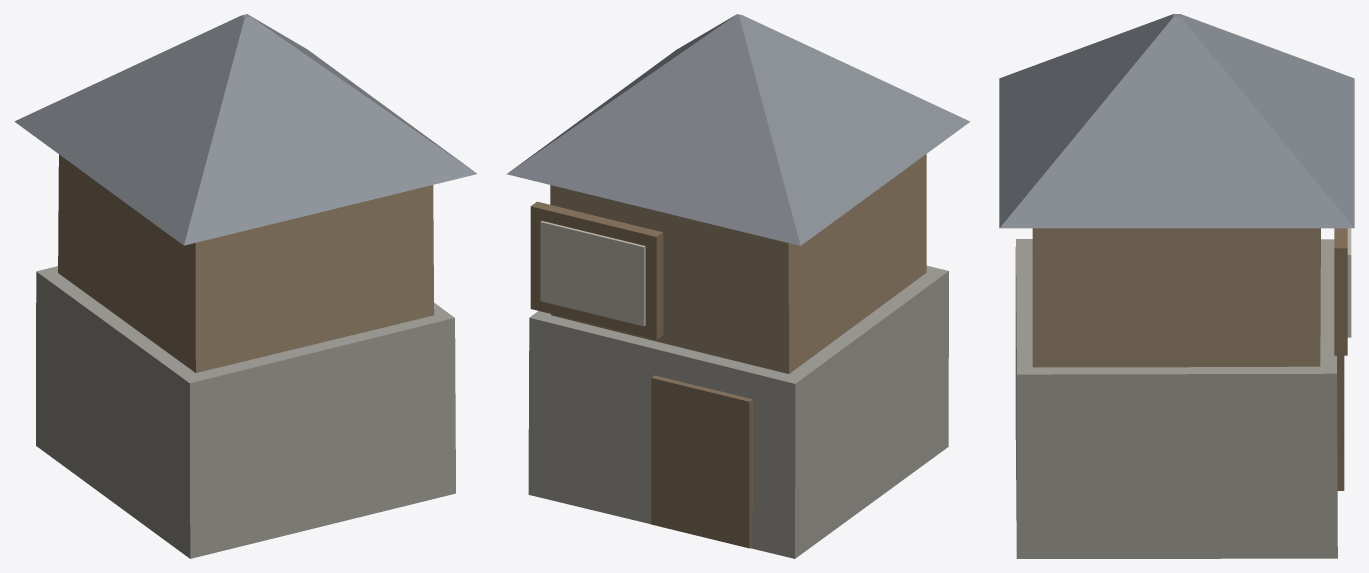
File: warden_post.glb
The picture shows the model from 3 angles, left to right: view 1: azimuth 30°, elevation 25°; view 2: azimuth 150°, elevation 25°; view 3: azimuth 270°, elevation 25°; orthographic projection. The views are drawn at different scales.
Visible parts, largest first — view 1: warden_post; view 2: warden_post; view 3: warden_post.
Part boxes in pixels (left/top/right/bottom): warden_post: left=14, top=14, right=477, bottom=558; warden_post: left=506, top=14, right=970, bottom=558; warden_post: left=999, top=14, right=1354, bottom=558.
Bounding box in the file's own units: 2.1 × 3.1 × 2.1.
